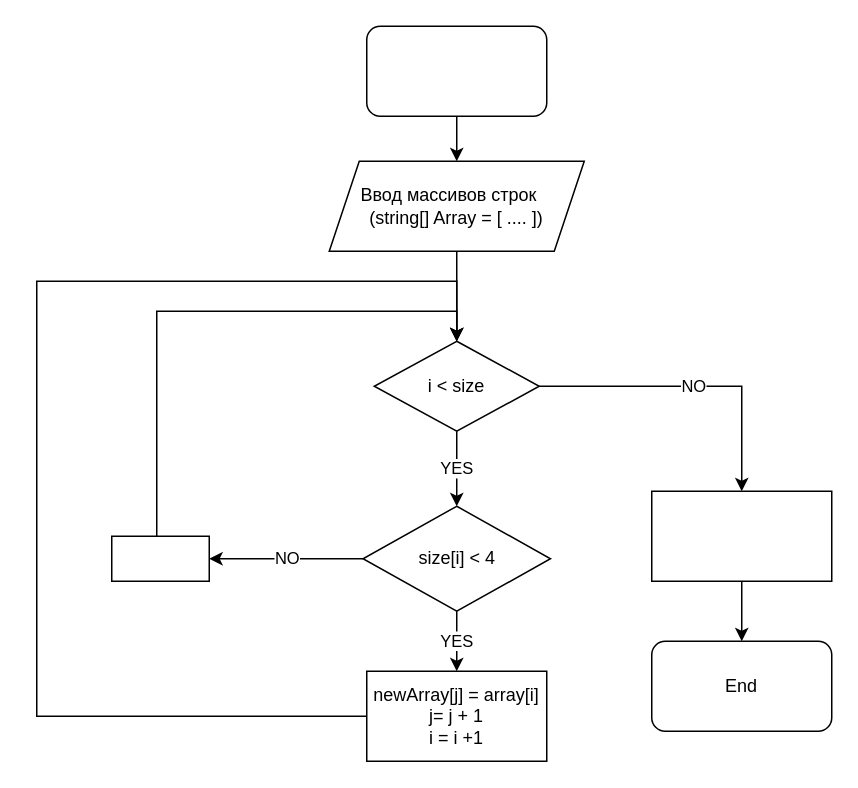
This 858x788 diagram has some shape labels left out. The shapes that lost their labels are listed below. From the top down, each one's box as (x1, y1, x2, y2) in pixels, then its label:
(365, 25, 547, 116): Start
(650, 490, 832, 581): Print newArray
(110, 535, 209, 581): i = i + 1
